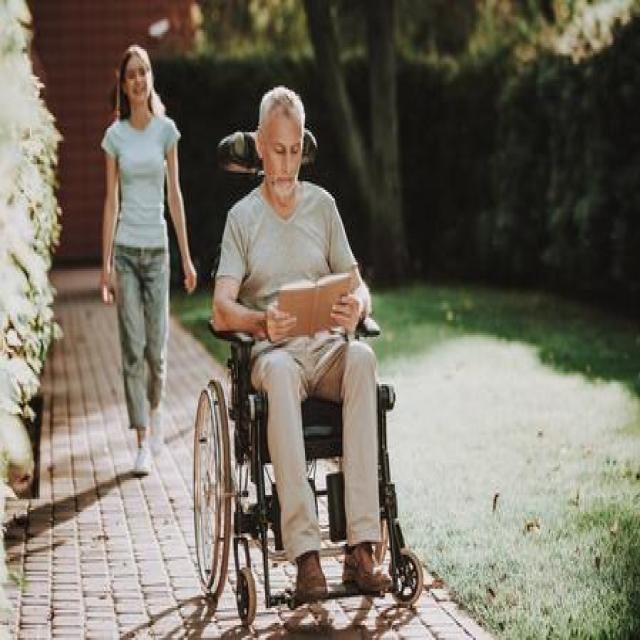wheelchairs: (190, 267, 430, 626)
